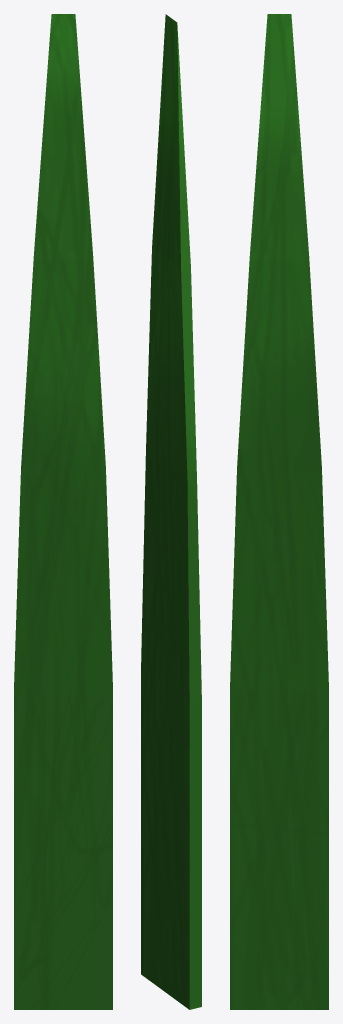
The model's file is glon.obj.
3 views of the same model, side by side, from view 1: azimuth 90°, elevation 25°; view 2: azimuth 210°, elevation 25°; view 3: azimuth 270°, elevation 25° (orthographic). The views are drawn at different scales.
Visible parts, largest first — view 1: Cube; view 2: Cube; view 3: Cube.
Boxes of the visible parts, <box> form: Cube: <box>14,14,112,1009</box>; Cube: <box>141,14,201,1009</box>; Cube: <box>230,14,328,1009</box>.
Bounding box in the file's own units: 0.0825 × 6.25 × 0.5644.
Materials: 1 (1 with a texture image).
